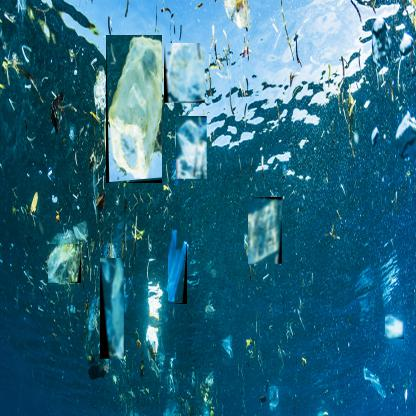plastic-bag: (168, 230, 188, 305)
waste: (106, 36, 163, 186), (164, 43, 206, 104), (100, 258, 125, 360), (248, 197, 283, 265), (176, 116, 208, 180), (48, 244, 82, 284), (385, 314, 405, 340)
